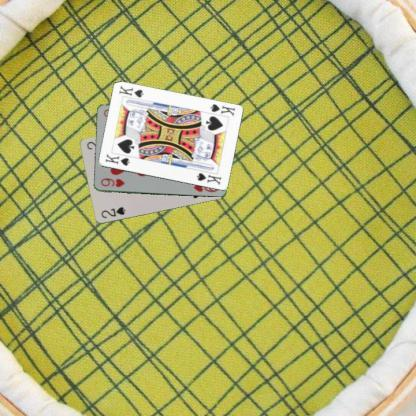2s: (98, 204, 127, 219)
9h: (98, 176, 126, 188)
Ks: (102, 151, 131, 167), (208, 102, 236, 118)
